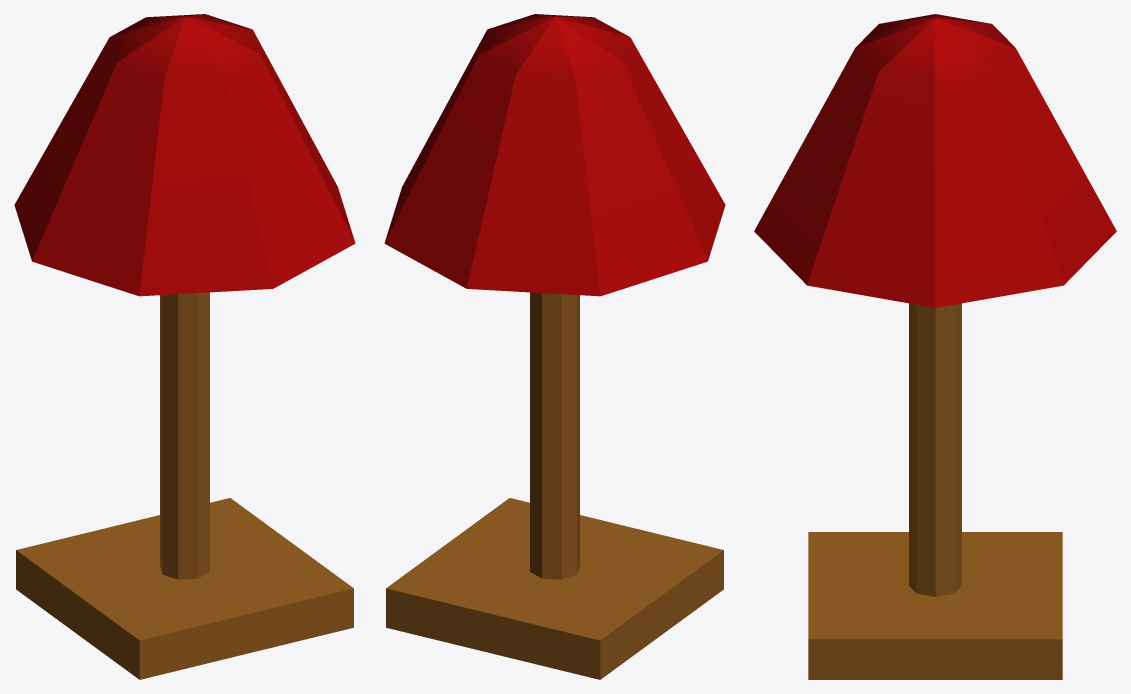
The model's file is lamp 1.fbx.
3 renders of one model, left to right at view 1: azimuth 30°, elevation 25°; view 2: azimuth 150°, elevation 25°; view 3: azimuth 270°, elevation 25°, orthographic. The views are drawn at different scales.
Visible parts, largest first — view 1: pCone2; view 2: pCone2; view 3: pCone2.
Boxes of the visible parts, x1,y1,x2,y2 form: pCone2: (14, 14, 355, 679); pCone2: (384, 14, 725, 679); pCone2: (754, 14, 1116, 679).
Size of the model in its own units: 8.12 by 15.01 by 8.12.
Materials: 1 (1 with a texture image).
